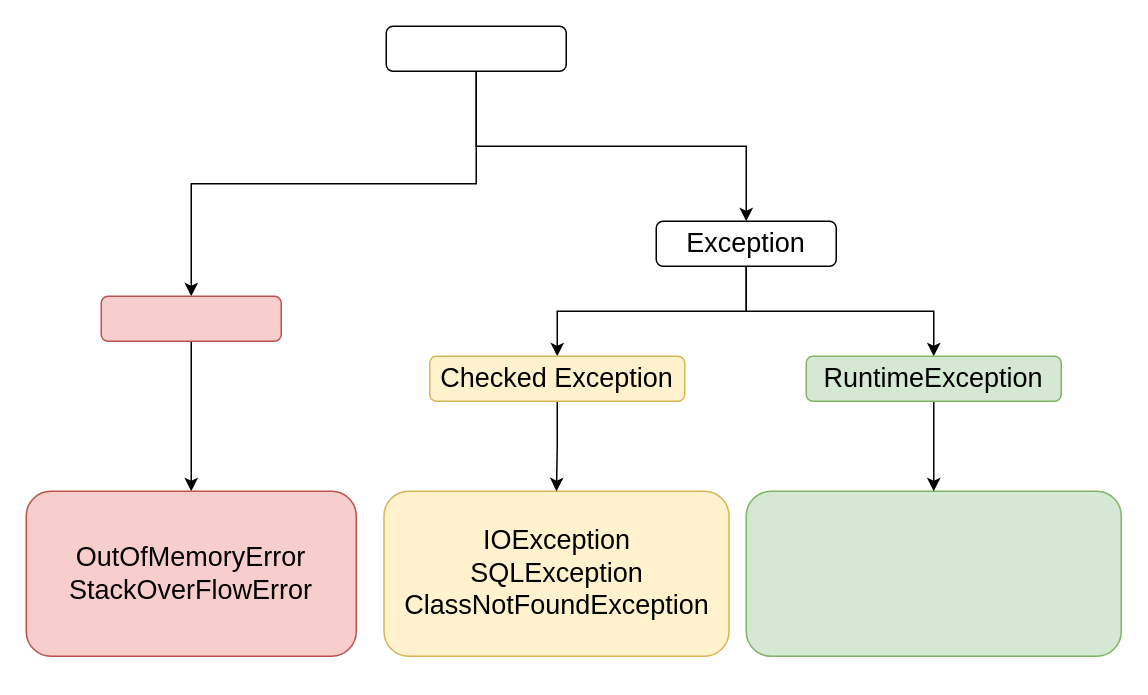
Image size: 1148x695. Some labels were removed from this diagram. Each missing label, with the centre of its shape:
ArithmeticException NullPointerException IndexOutOfBoundsException: the point at 933,573
Error: the point at 190,318
Throwable: the point at 475,48
